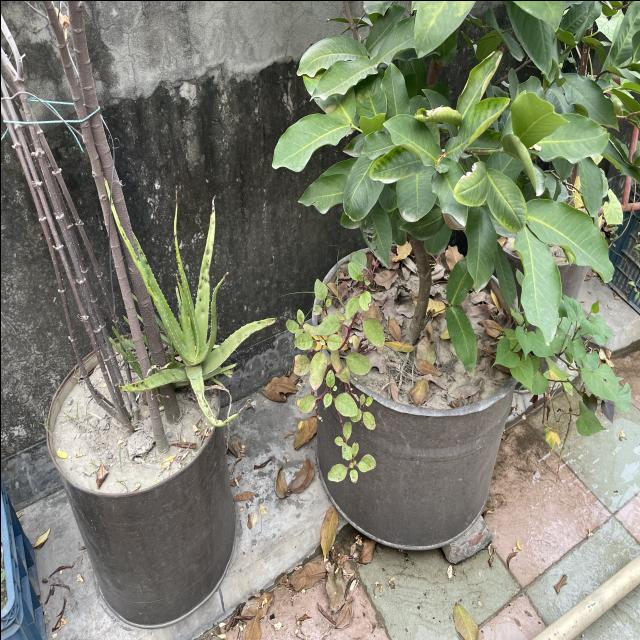Breeding Place: (312, 242, 501, 554), (47, 346, 241, 622)
